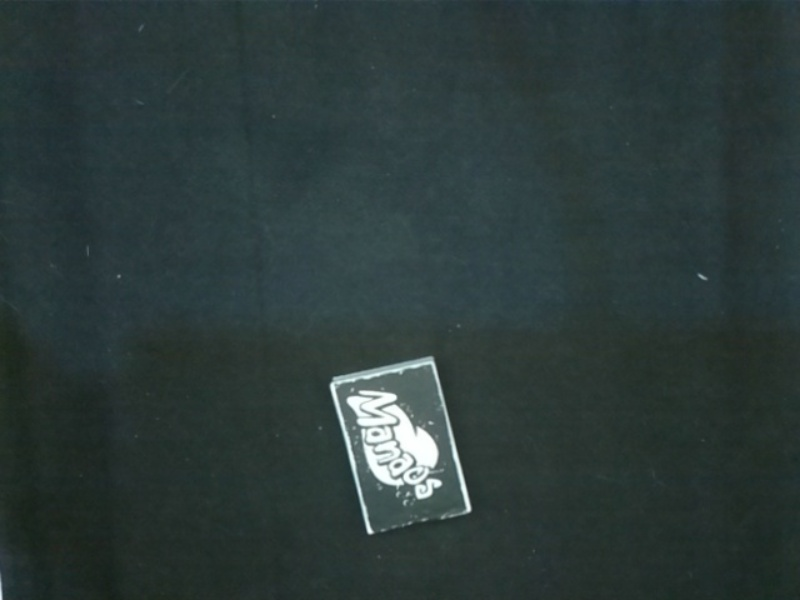manaos: (321, 357, 484, 540)
